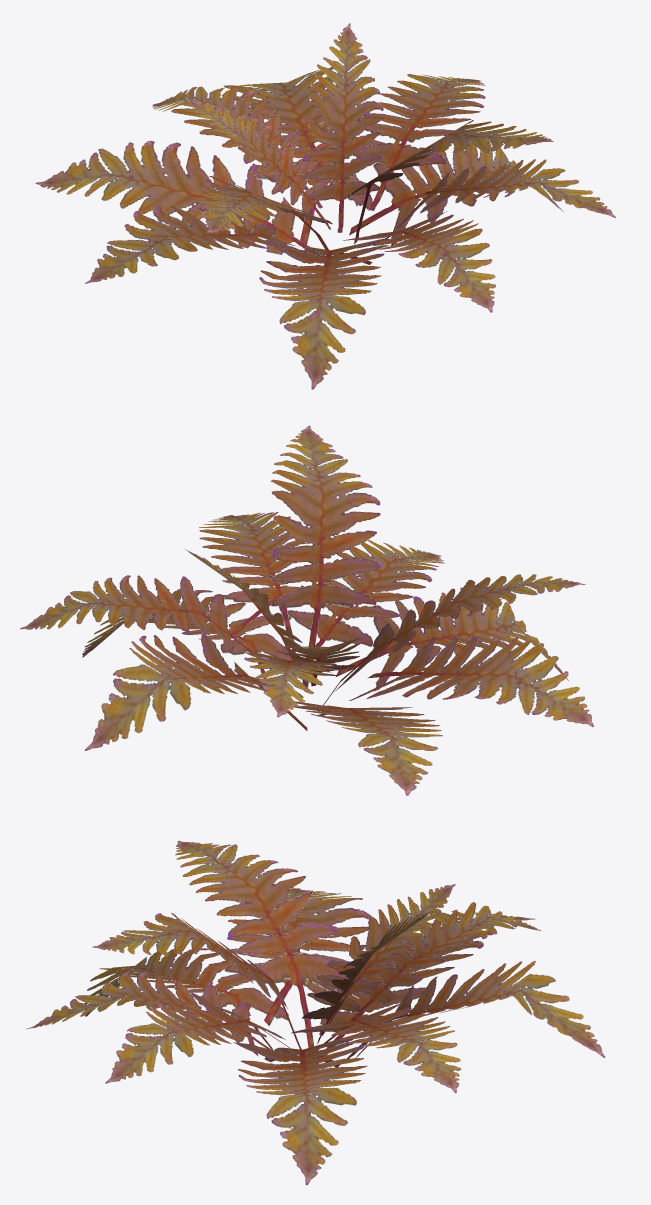
File: Map_08_grass06.FBX
3 renders of one model, top to bottom at view 1: azimuth 30°, elevation 25°; view 2: azimuth 150°, elevation 25°; view 3: azimuth 270°, elevation 25°, orthographic. The views are drawn at different scales.
Parts seen in each view (by area): view 1: Map_08_grass06; view 2: Map_08_grass06; view 3: Map_08_grass06.
Boxes of the visible parts, <box> form: Map_08_grass06: <box>35,23,615,389</box>; Map_08_grass06: <box>20,425,593,795</box>; Map_08_grass06: <box>26,840,605,1185</box>.
Size of the model in its own units: 92.32 by 93.76 by 37.91.
